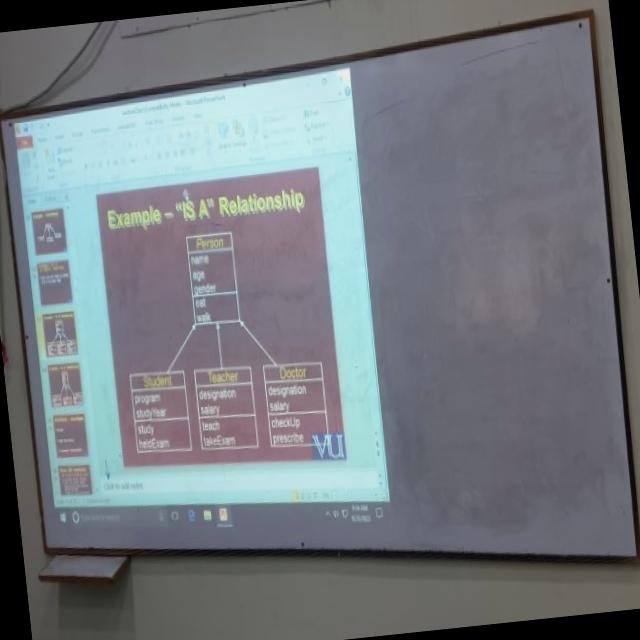Slide: (14, 66, 395, 533)
White-board: (0, 18, 640, 565)
